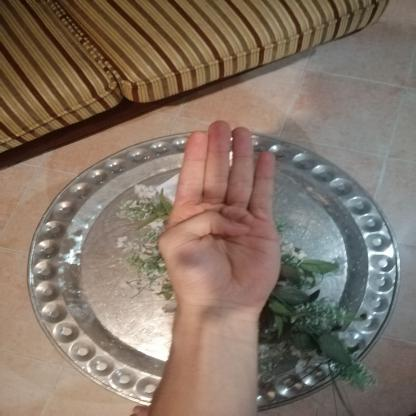KAAF: (138, 107, 312, 330)
